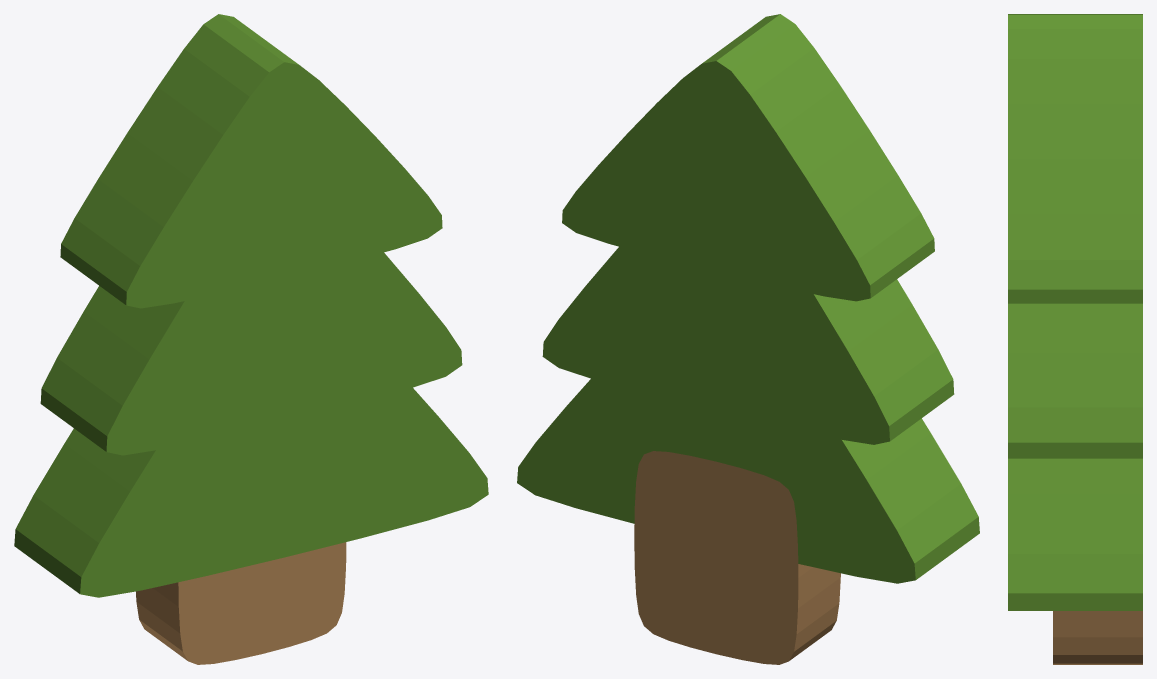
Rendered from tree.glb.
3 renders of one model, left to right at view 1: azimuth 30°, elevation 25°; view 2: azimuth 150°, elevation 25°; view 3: azimuth 270°, elevation 25°, orthographic. The views are drawn at different scales.
Visible parts, largest first — view 1: Plane.031, Plane.032; view 2: Plane.031, Plane.032; view 3: Plane.031, Plane.032.
Boxes of the visible parts, x1=… form: Plane.031: x1=14, y1=14, x2=488, y2=597; Plane.032: x1=136, y1=542, x2=346, y2=664; Plane.031: x1=517, y1=14, x2=979, y2=583; Plane.032: x1=634, y1=451, x2=840, y2=664; Plane.031: x1=1008, y1=14, x2=1142, y2=610; Plane.032: x1=1053, y1=611, x2=1142, y2=664.
Size of the model in its own units: 10.76 by 15.3 by 3.
